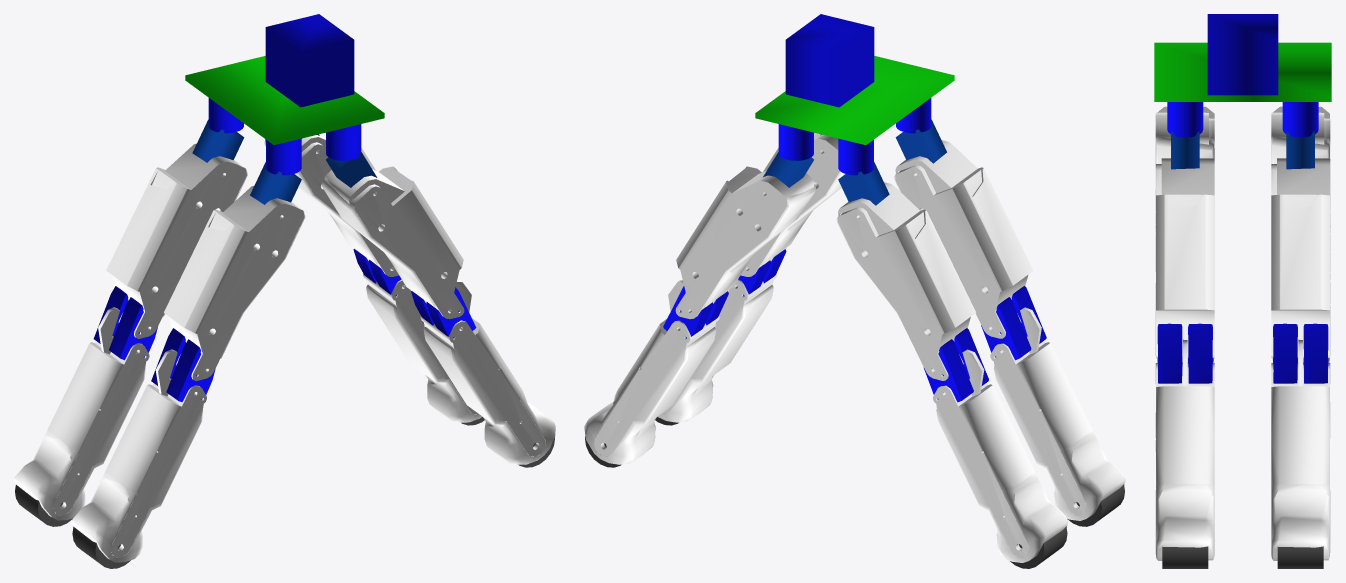
Rendered from aero-lower.dae.
The picture shows the model from 3 angles, left to right: view 1: azimuth 30°, elevation 25°; view 2: azimuth 150°, elevation 25°; view 3: azimuth 270°, elevation 25°; orthographic projection.
Parts seen in each view (by area): view 1: RLEG_LINK3 (×3), LLEG_LINK3 (×3), RLEG_LINK2, LLEG_LINK2, WAIST_LINK1 (×4), RARM_LINK2, RARM_LINK3 (×2), WAIST_LINK0, LARM_LINK3 (×2), LARM_LINK2, LLEG_LINK1, RLEG_LINK1 (+1 smaller); view 2: LLEG_LINK3 (×3), RLEG_LINK3 (×3), LLEG_LINK2, RLEG_LINK2, WAIST_LINK1 (×4), LARM_LINK2, LARM_LINK3 (×2), WAIST_LINK0, RARM_LINK3 (×2), RARM_LINK2, RLEG_LINK1, LLEG_LINK1 (+1 smaller); view 3: RARM_LINK3 (×3), LARM_LINK3 (×3), LARM_LINK2, RARM_LINK2, WAIST_LINK1 (×3), WAIST_LINK0, RLEG_LINK2, LLEG_LINK2, LARM_LINK1, RARM_LINK1.
Part boxes in pixels (x1,y1,x2,y2): RLEG_LINK3 (×3): (71, 328, 215, 568); LLEG_LINK3 (×3): (14, 286, 157, 526); RLEG_LINK2: (164, 186, 305, 380); LLEG_LINK2: (106, 143, 247, 338); WAIST_LINK1 (×4): (185, 56, 384, 175); RARM_LINK2: (322, 166, 464, 319); RARM_LINK3 (×2): (411, 280, 555, 464); WAIST_LINK0: (265, 14, 354, 107); LARM_LINK3 (×2): (353, 249, 482, 422); LARM_LINK2: (264, 132, 399, 276); LLEG_LINK1: (192, 119, 244, 162); RLEG_LINK1: (250, 162, 301, 204); LLEG_LINK3 (×3): (923, 328, 1068, 568); RLEG_LINK3 (×3): (981, 286, 1125, 526); LLEG_LINK2: (836, 182, 975, 380); RLEG_LINK2: (894, 140, 1033, 338); WAIST_LINK1 (×4): (755, 56, 954, 175); LARM_LINK2: (675, 166, 815, 319); LARM_LINK3 (×2): (584, 280, 728, 464); WAIST_LINK0: (785, 14, 874, 107); RARM_LINK3 (×2): (657, 249, 786, 422); RARM_LINK2: (740, 132, 844, 276); RLEG_LINK1: (895, 119, 946, 163); LLEG_LINK1: (838, 162, 889, 205); RARM_LINK3 (×3): (1155, 323, 1214, 568); LARM_LINK3 (×3): (1271, 323, 1330, 568); LARM_LINK2: (1271, 158, 1330, 357); RARM_LINK2: (1155, 158, 1214, 357); WAIST_LINK1 (×3): (1154, 42, 1331, 137); WAIST_LINK0: (1207, 14, 1278, 95); RLEG_LINK2: (1155, 106, 1214, 232); LLEG_LINK2: (1271, 106, 1330, 232); LARM_LINK1: (1286, 131, 1314, 169); RARM_LINK1: (1171, 131, 1199, 169).
Size of the model in its own units: 0.9269 by 0.3076 by 0.8606.
